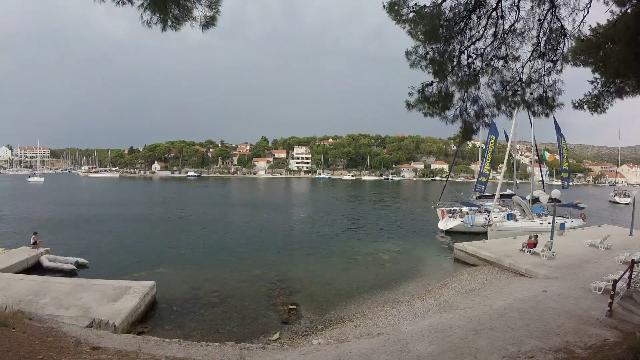Sailboat: (23, 172, 47, 185)
